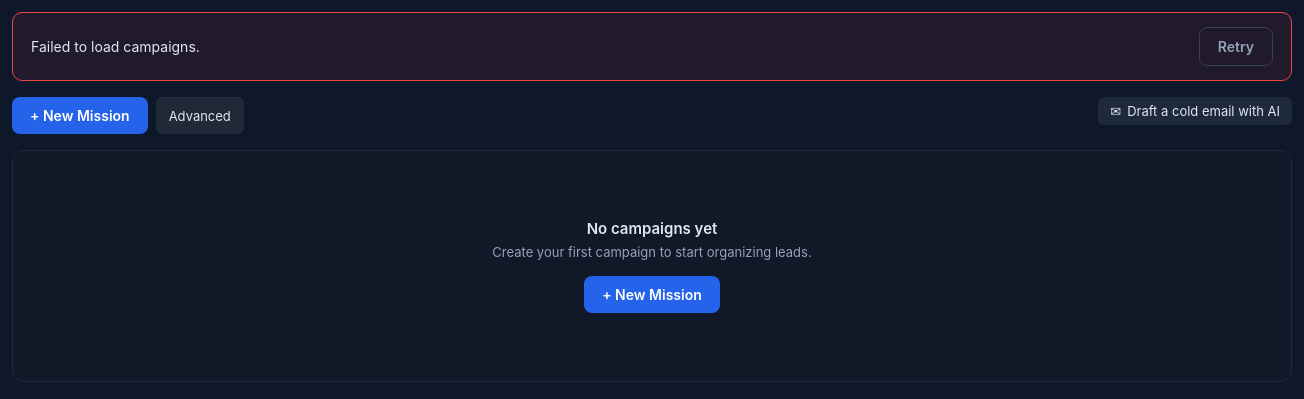
Test case: Campaigns › shows a persistent error banner (not just a toast) when the load fails, and Retry reloads
Check: the message shows "Failed to load campaigns", box [31,38,200,55]
Click the button "Retry" at (1236, 46), box [1199,27,1273,66]
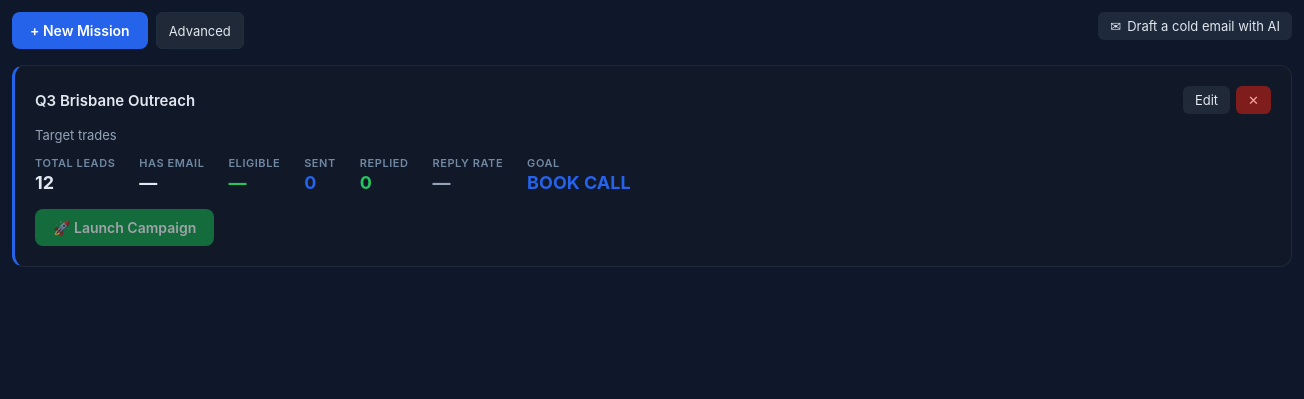
Check: the text "Q3 Brisbane Outreach" is shown, box [35,90,195,110]
Check: the message "Failed to load campaigns. Retry" is gone
